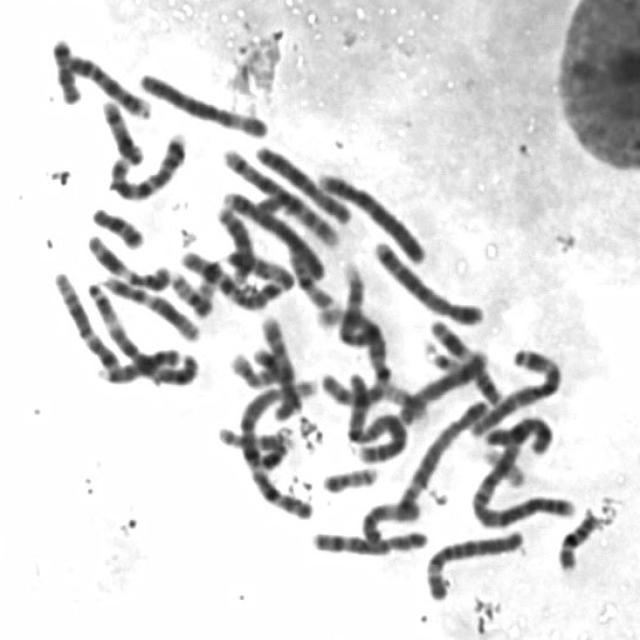A1: (234, 371, 322, 521), (310, 301, 393, 410)
A2: (468, 439, 577, 529), (341, 366, 408, 464)
A3: (80, 272, 200, 388), (466, 341, 566, 439)
B4: (216, 184, 336, 302), (312, 165, 429, 266)
B5: (396, 393, 492, 518), (368, 234, 486, 326)
C10: (257, 311, 303, 421), (256, 188, 335, 248)
C11: (422, 313, 506, 407), (83, 228, 174, 292)
C12: (48, 264, 124, 374), (96, 270, 202, 344)
C6: (134, 65, 272, 140), (421, 524, 528, 602)
C7: (174, 244, 295, 312), (103, 126, 190, 202)
C8: (393, 345, 492, 425), (306, 524, 432, 558)
C9: (61, 49, 154, 120), (334, 255, 368, 347)
D13: (92, 342, 184, 387), (212, 200, 257, 284)
D14: (219, 152, 291, 206), (96, 95, 144, 166)
D15: (221, 246, 295, 290), (360, 496, 420, 545)
E16: (286, 235, 342, 324), (554, 504, 602, 574)
E17: (211, 419, 296, 456), (224, 345, 286, 389)
E18: (86, 200, 146, 250), (46, 32, 84, 106)
F19: (478, 441, 528, 489), (380, 379, 430, 425)
F20: (165, 266, 215, 318), (317, 460, 382, 494)
G21: (261, 439, 292, 469)
G22: (193, 262, 225, 316), (420, 340, 467, 374)
X: (250, 139, 354, 225), (474, 410, 554, 456)
